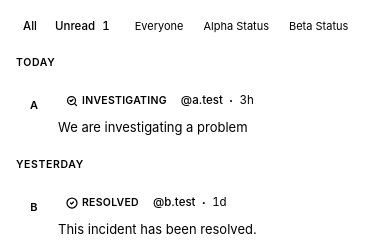
Test: the status filters › narrows to unread
Click the button "Unread 1". click: (82, 27)
box: [47,15,118,38]
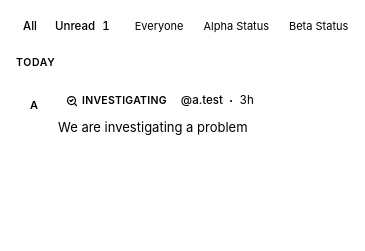
Expected: the text "We are investigating a problem" is shown, [58,119,248,135]
Result: the text "This incident has been resolved." is gone
